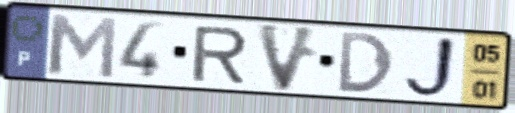4: (115, 18, 166, 81)
D: (337, 29, 397, 95)
J: (399, 33, 459, 102)
M: (46, 11, 120, 81)
R: (188, 24, 250, 85)
V: (254, 21, 322, 94)
